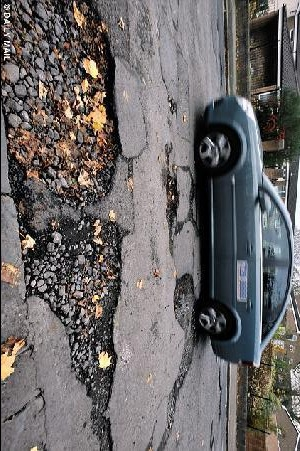pothole: (1, 0, 131, 412), (172, 270, 198, 329), (163, 171, 180, 231)
